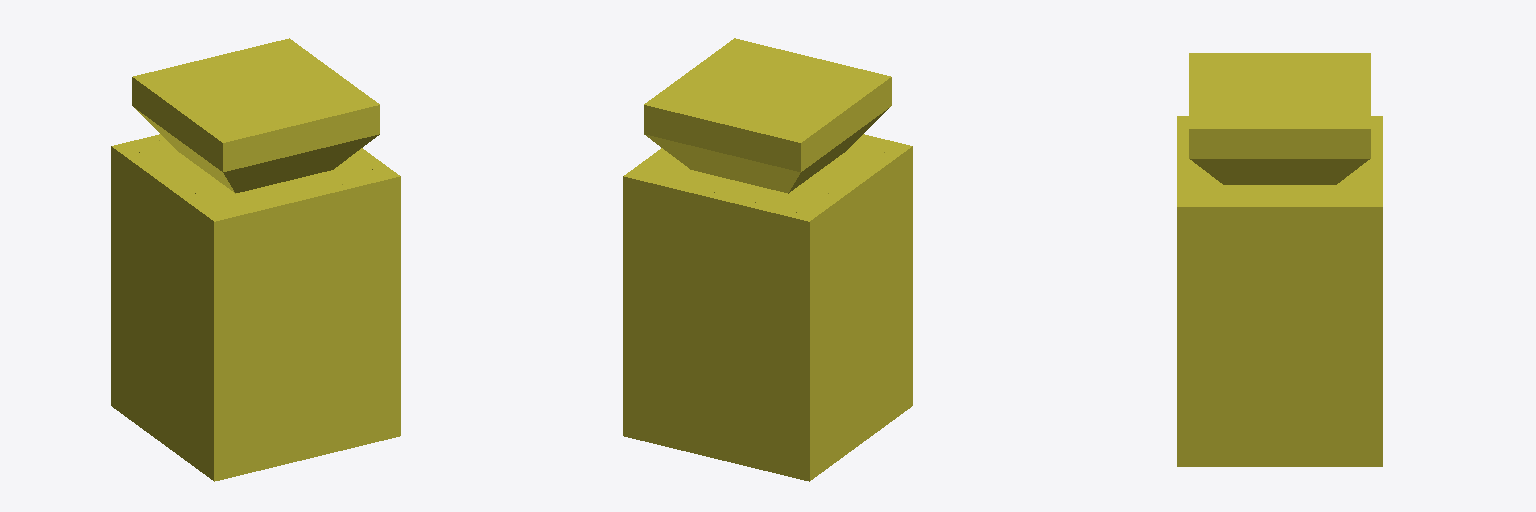
Rendered from cmae_v6.obj.
The picture shows the model from 3 angles: view 1: azimuth 30°, elevation 25°; view 2: azimuth 150°, elevation 25°; view 3: azimuth 270°, elevation 25°; orthographic projection.
Visible parts, largest first — view 1: Cube; view 2: Cube; view 3: Cube.
Boxes of the visible parts, x1,y1,x2,y2 form: Cube: [111, 38, 400, 481]; Cube: [623, 38, 912, 481]; Cube: [1177, 53, 1382, 466].
Bounding box in the file's own units: 0.6658 × 1.13 × 0.6393.